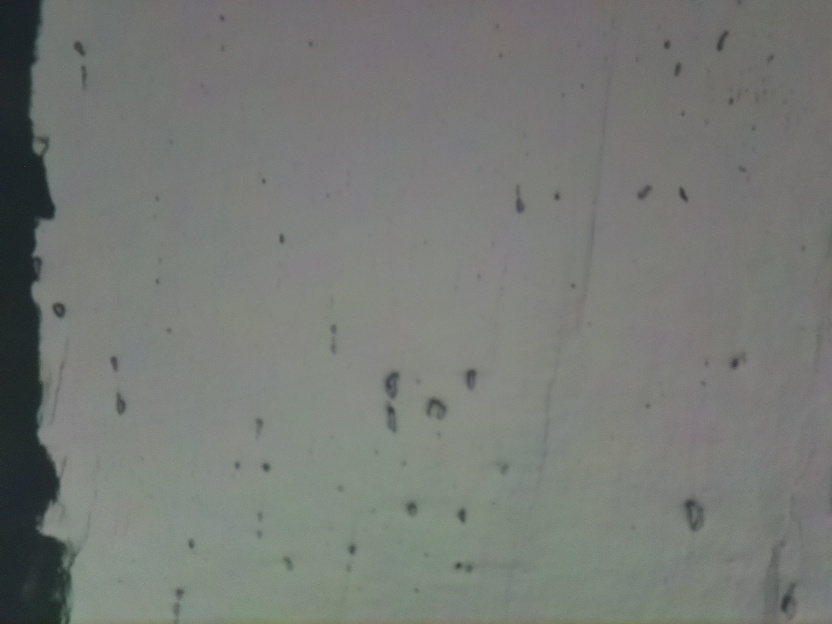crack: (0, 0, 69, 624)
